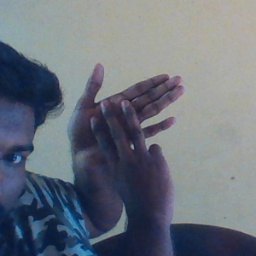M: (66, 63, 189, 215)
